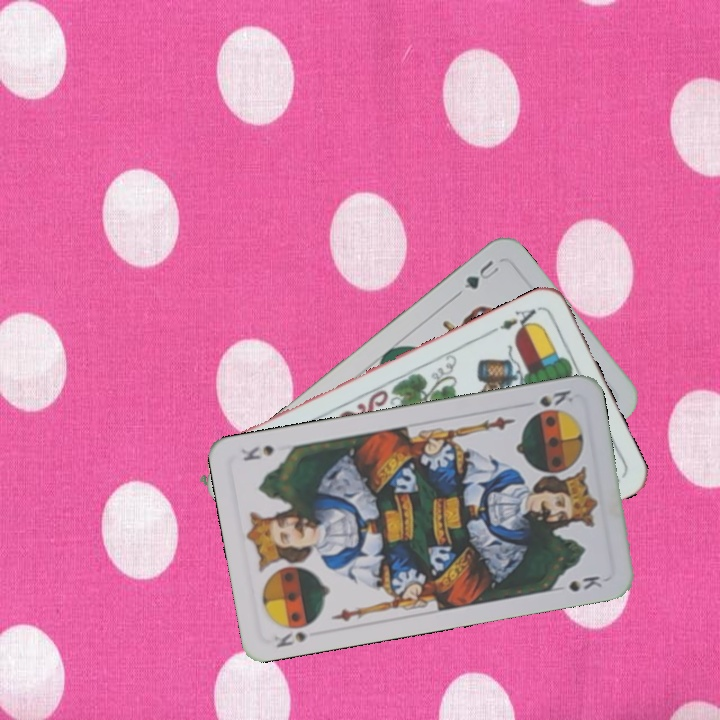EA: (487, 304, 540, 337)
GU: (460, 256, 503, 292)
SK: (535, 386, 576, 410), (270, 627, 309, 651)
